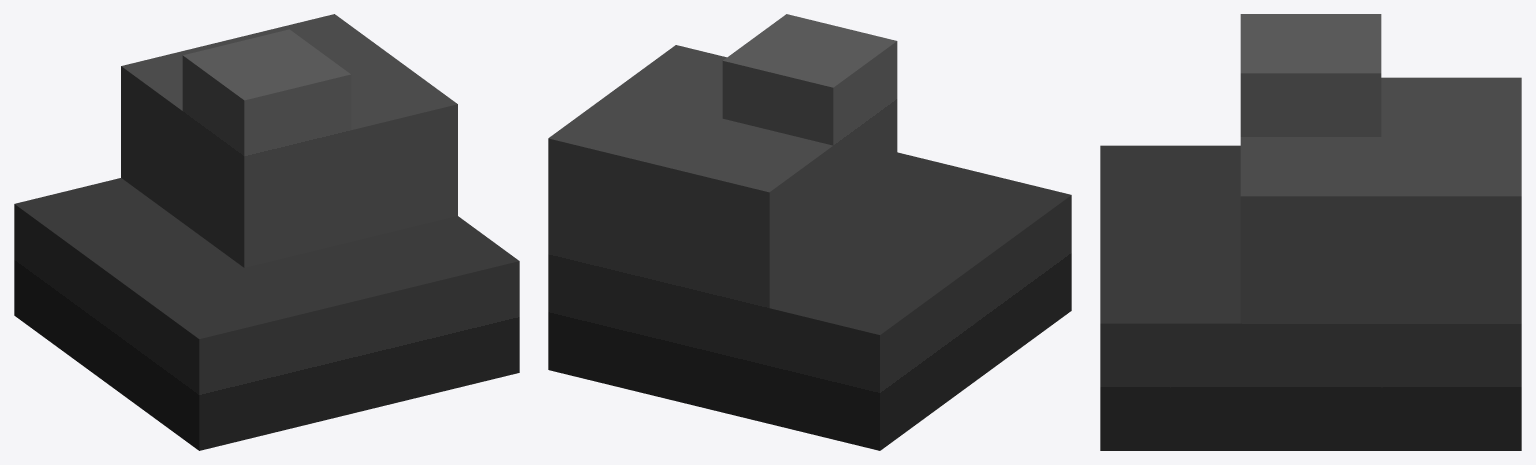
File: Stone_1_LODGroup.fbx
3 renders of one model, left to right at view 1: azimuth 30°, elevation 25°; view 2: azimuth 150°, elevation 25°; view 3: azimuth 270°, elevation 25°, orthographic. The views are drawn at different scales.
Visible parts, largest first — view 1: Stone_1_LOD0; view 2: Stone_1_LOD0; view 3: Stone_1_LOD0.
Boxes of the visible parts, <box> form: Stone_1_LOD0: <box>14,14,519,450</box>; Stone_1_LOD0: <box>548,14,1071,450</box>; Stone_1_LOD0: <box>1100,14,1521,450</box>.
Size of what is drawn, in the model's own units: 0.804 by 0.67 by 0.804.
